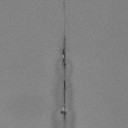slag inclusion: (52, 30, 75, 128), (63, 2, 65, 11)
